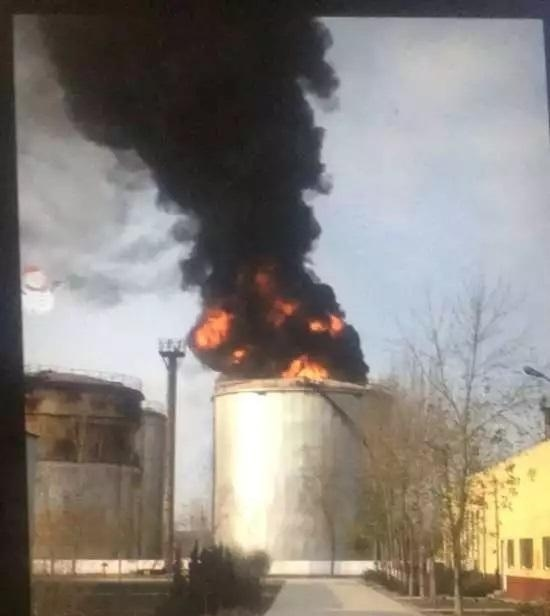fire: (195, 309, 231, 347), (284, 355, 329, 381)
